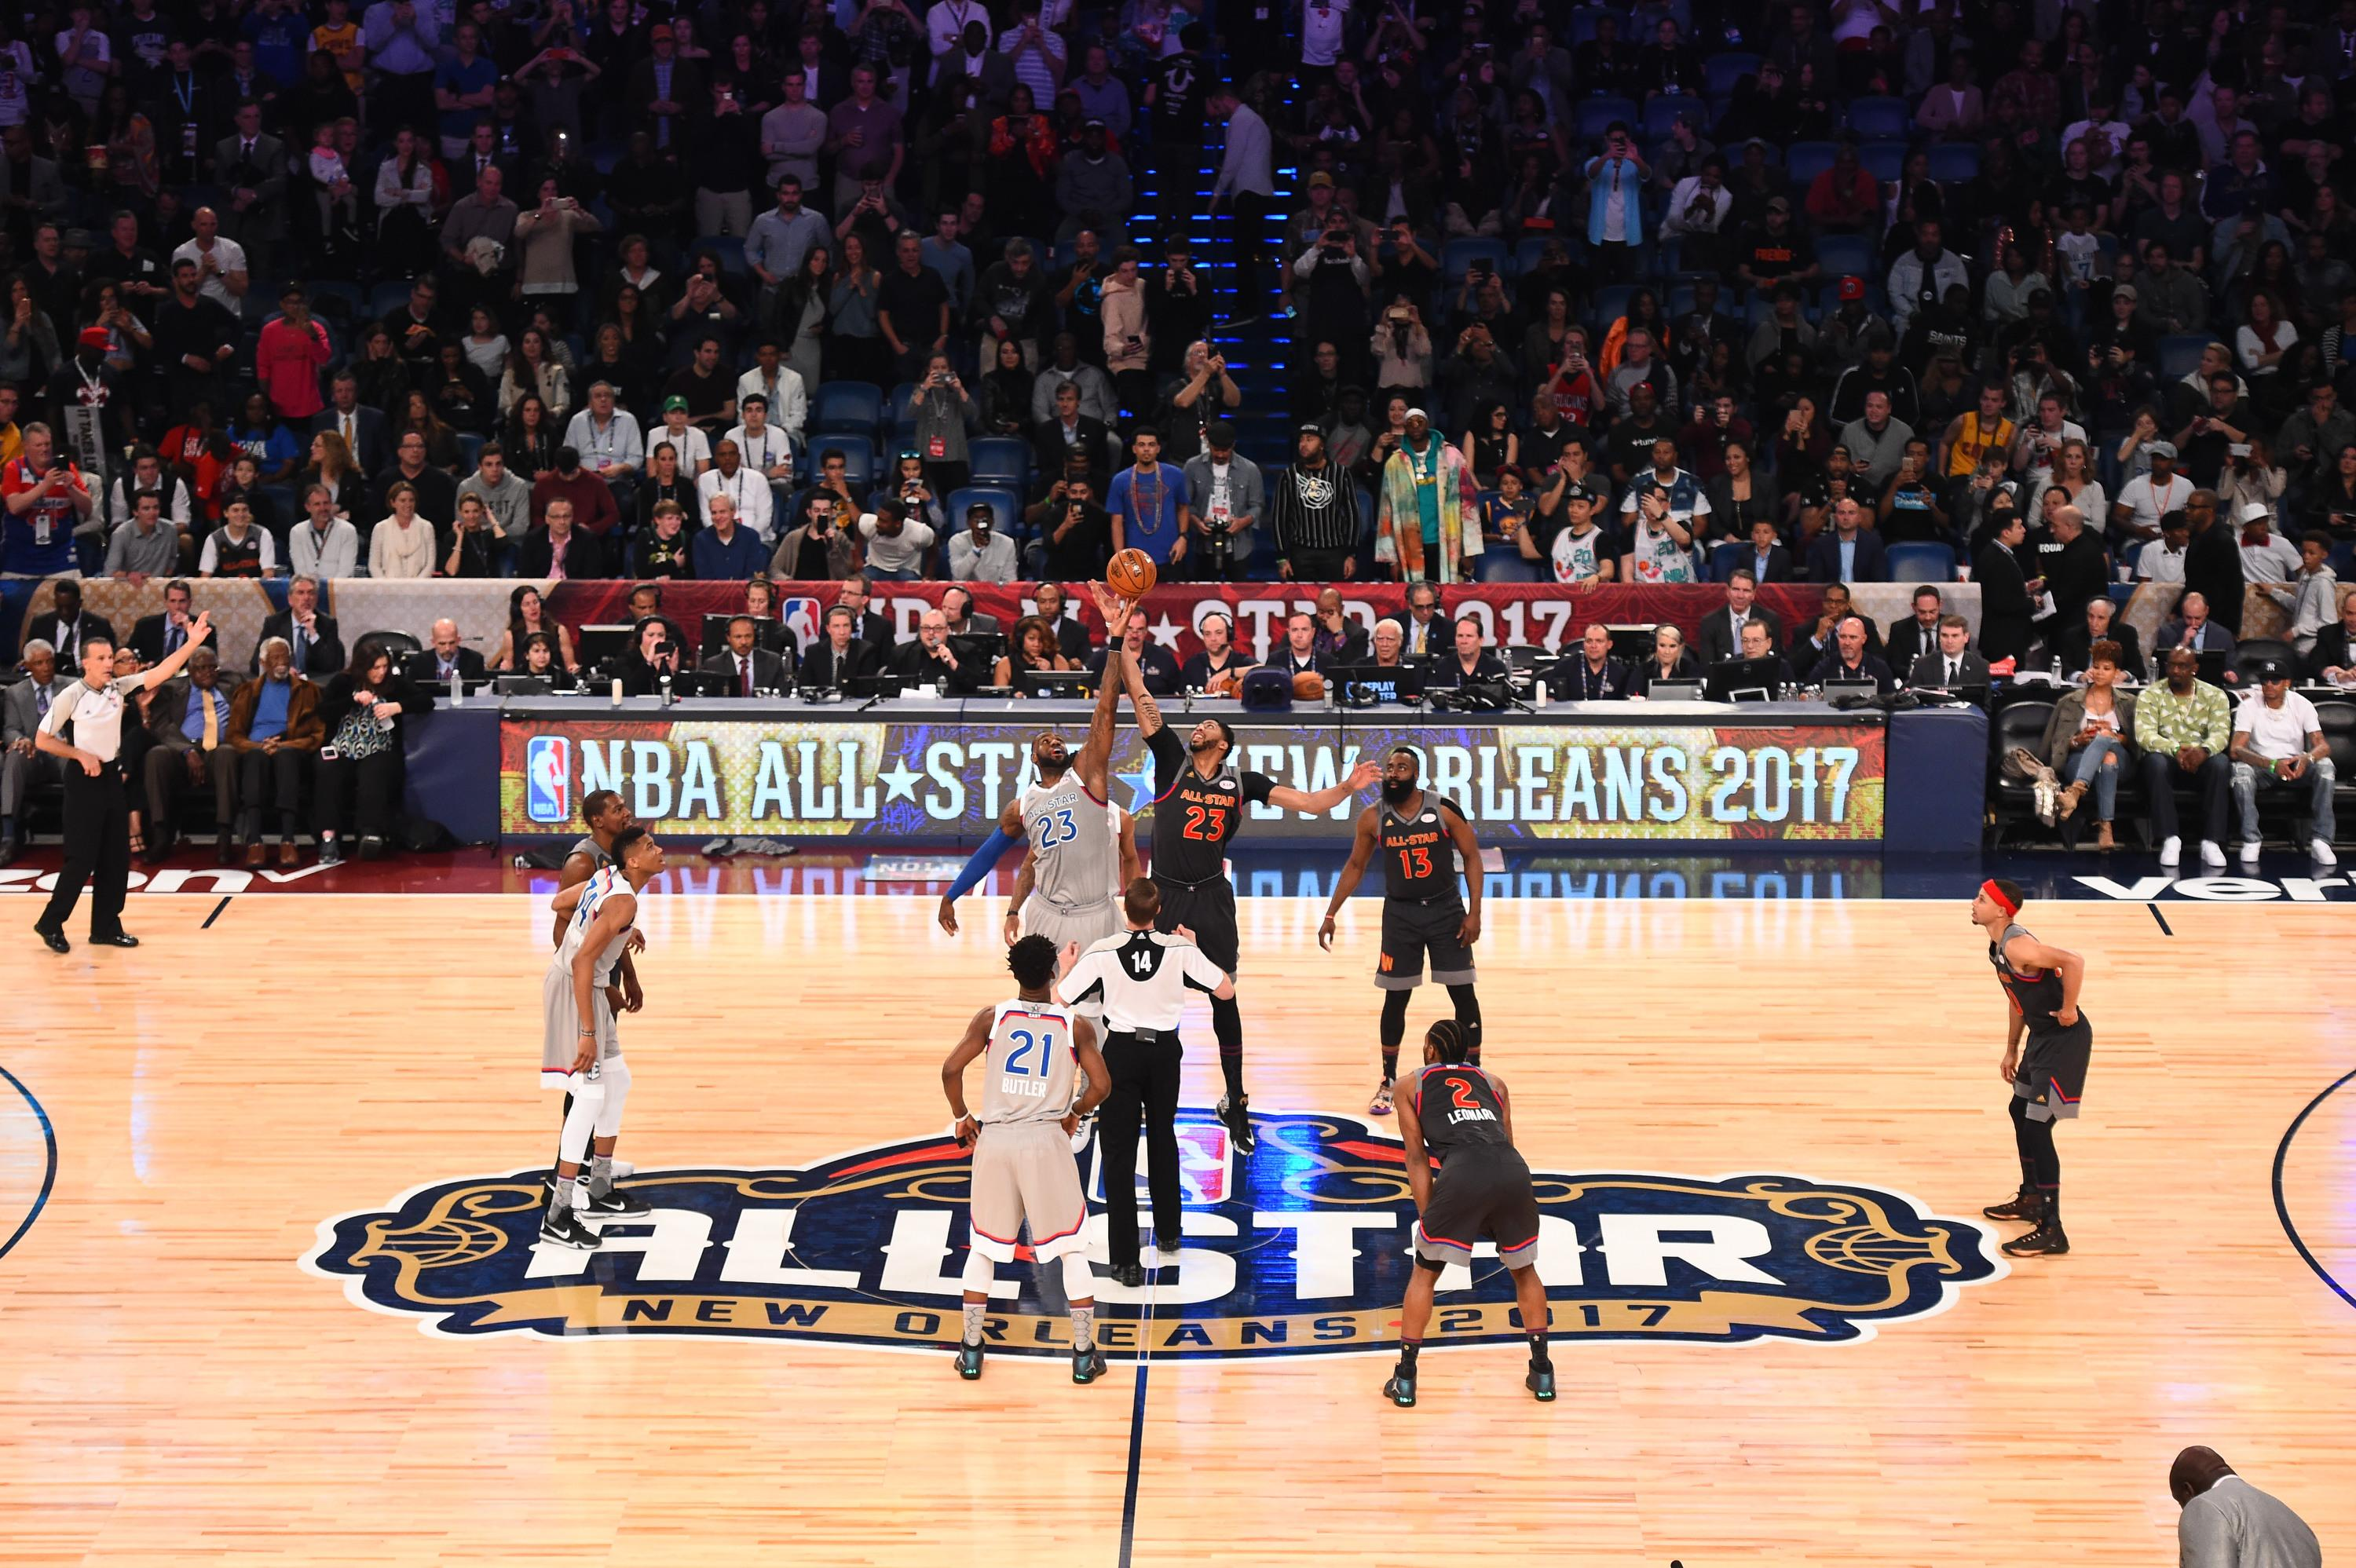ball: (1107, 551, 1161, 610)
player: (1407, 1032, 1561, 1391), (535, 832, 668, 1248), (963, 941, 1085, 1386), (1970, 884, 2098, 1256), (1347, 752, 1495, 1046), (989, 736, 1131, 945), (1143, 718, 1256, 934)
referee: (1096, 900, 1203, 1264)
